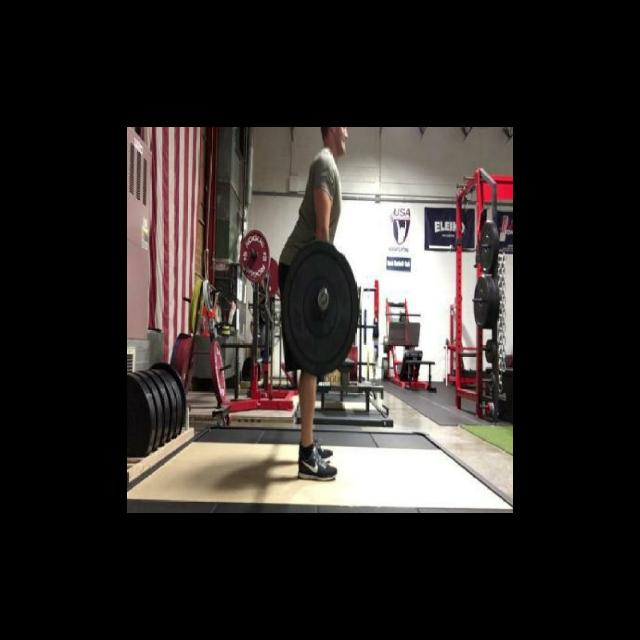barbell: (277, 236, 365, 381)
